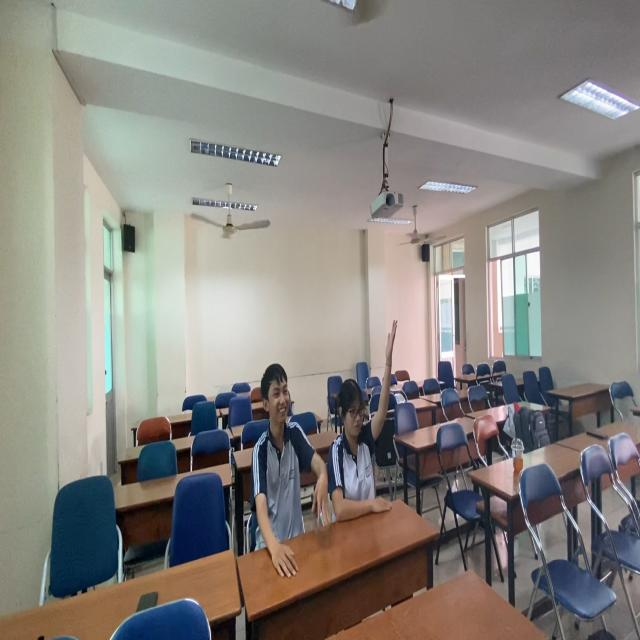raise_hand: (322, 317, 402, 527)
